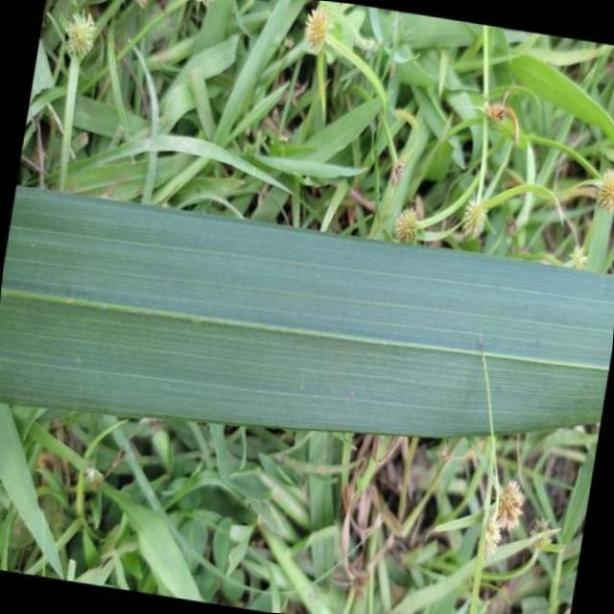Healthy: (1, 182, 614, 436)
